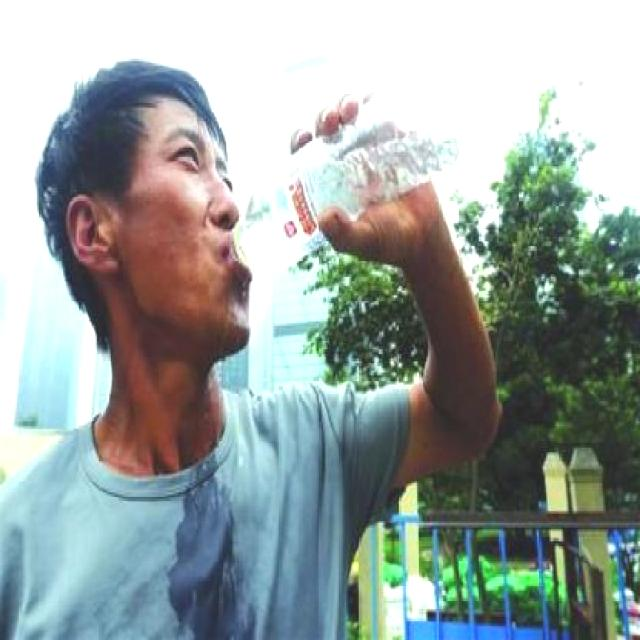face_nomask: (137, 116, 249, 322)
hand_noglove: (288, 85, 444, 262)
head_nohelmet: (20, 37, 203, 178)
person: (0, 58, 496, 639)
